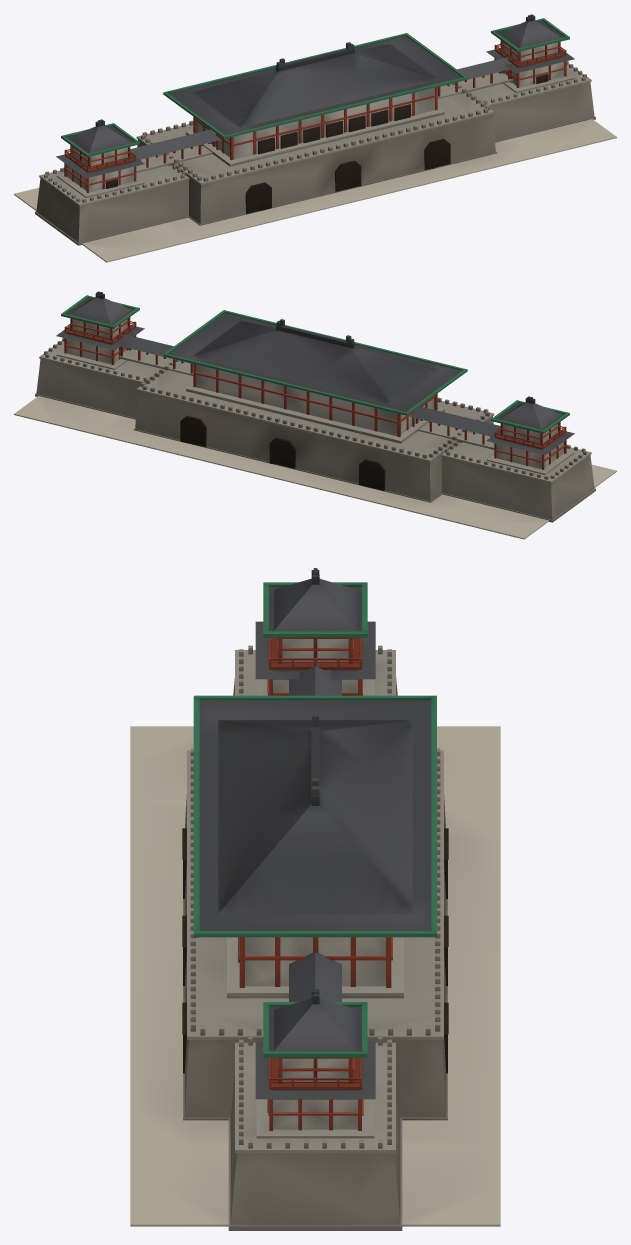
Rendered from chengtianmen.glb.
The picture shows the model from 3 angles, top to bottom: view 1: azimuth 30°, elevation 25°; view 2: azimuth 150°, elevation 25°; view 3: azimuth 270°, elevation 25°; orthographic projection. The views are drawn at different scales.
Parts seen in each view (by area): view 1: p0_gates, p2_roofs, p1_halls; view 2: p0_gates, p2_roofs, p1_halls; view 3: p0_gates, p2_roofs, p1_halls.
Boxes of the visible parts, x1,y1,x2,y2 form: p0_gates: (14, 61, 616, 262); p2_roofs: (56, 14, 574, 178); p1_halls: (56, 40, 574, 197); p0_gates: (14, 338, 616, 539); p2_roofs: (56, 291, 574, 455); p1_halls: (56, 317, 574, 474); p0_gates: (130, 645, 500, 1230); p2_roofs: (193, 568, 436, 1099); p1_halls: (227, 637, 403, 1138).
Size of the model in its own units: 142 by 30.28 by 44.
